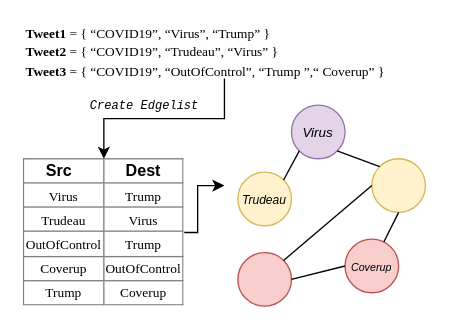
Image size: 449x330. Some labels were removed from this diagram. Each missing label, with the centre of its shape:
OutOfCntrl: (x=264, y=278)
Trump: (x=398, y=184)
